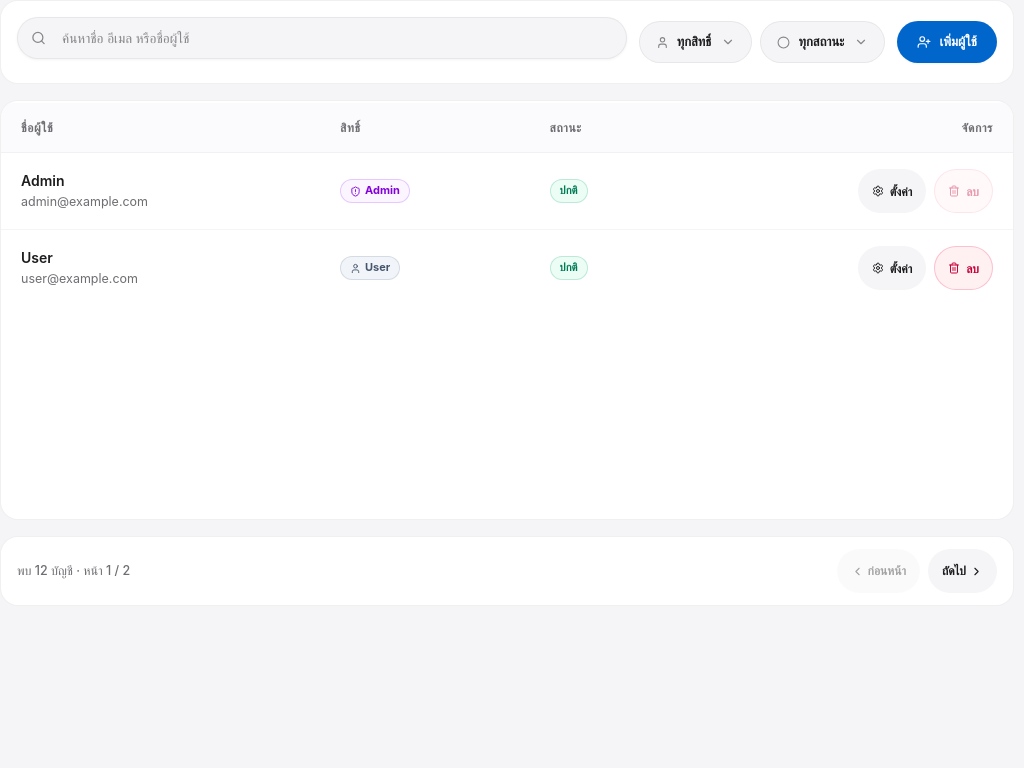
Test: UserManagement — search, filters and paging › reports the total from the API and pages with the same filters
Expected: the text "admin@example.com" is shown, [21,194,148,209]
Expected: the text "พบ 12 บัญชี · หน้า 1 / 2" is shown, [17,562,130,580]
Click the button with aria-label "หน้าถัดไป" at (962, 571), box [928,549,997,593]
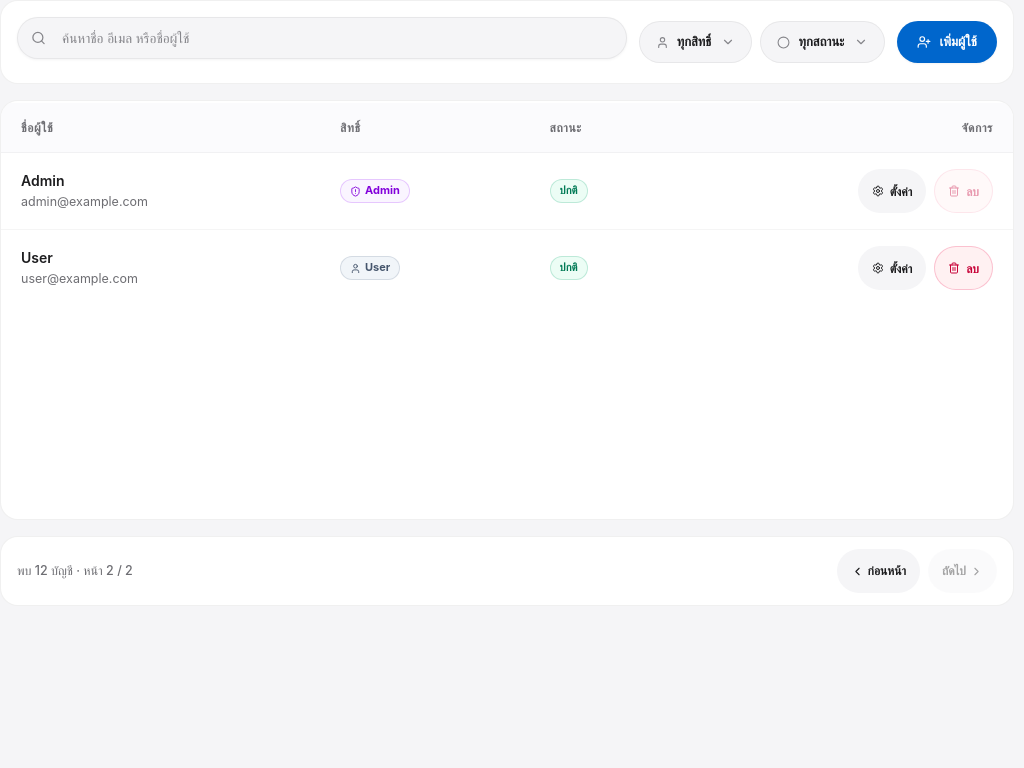
Expected: the text "พบ 12 บัญชี · หน้า 2 / 2" is shown, [17,562,133,580]
Expected: the button with aria-label "หน้าถัดไป" is disabled, [928,549,997,593]
